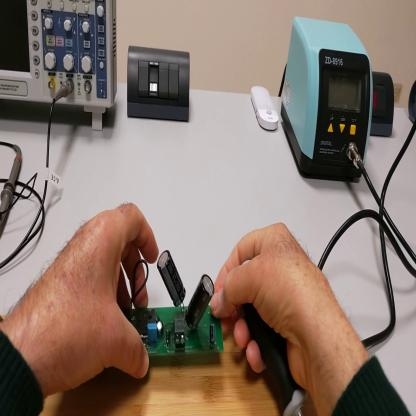hand: (2, 202, 160, 394), (208, 221, 352, 388)
high voltage board: (121, 251, 227, 359)
oscilloscope: (2, 2, 118, 132)
oscilloscope probe tip: (3, 147, 22, 237)
screwdriver-: (242, 261, 310, 415)
socket: (370, 72, 397, 139), (408, 79, 416, 127)
welder station: (284, 17, 375, 187)
working area: (40, 334, 282, 416)
